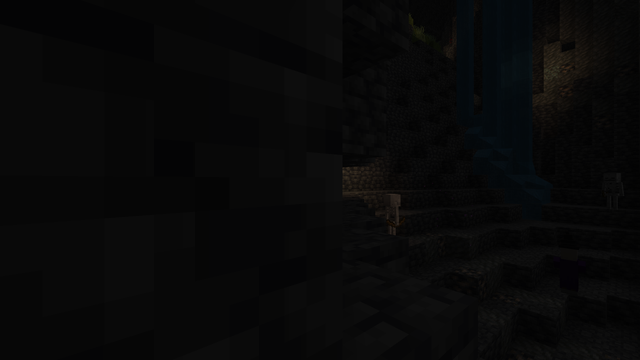sorcieres: (557, 243, 579, 298)
squelettes: (381, 194, 401, 231), (603, 173, 619, 210)
